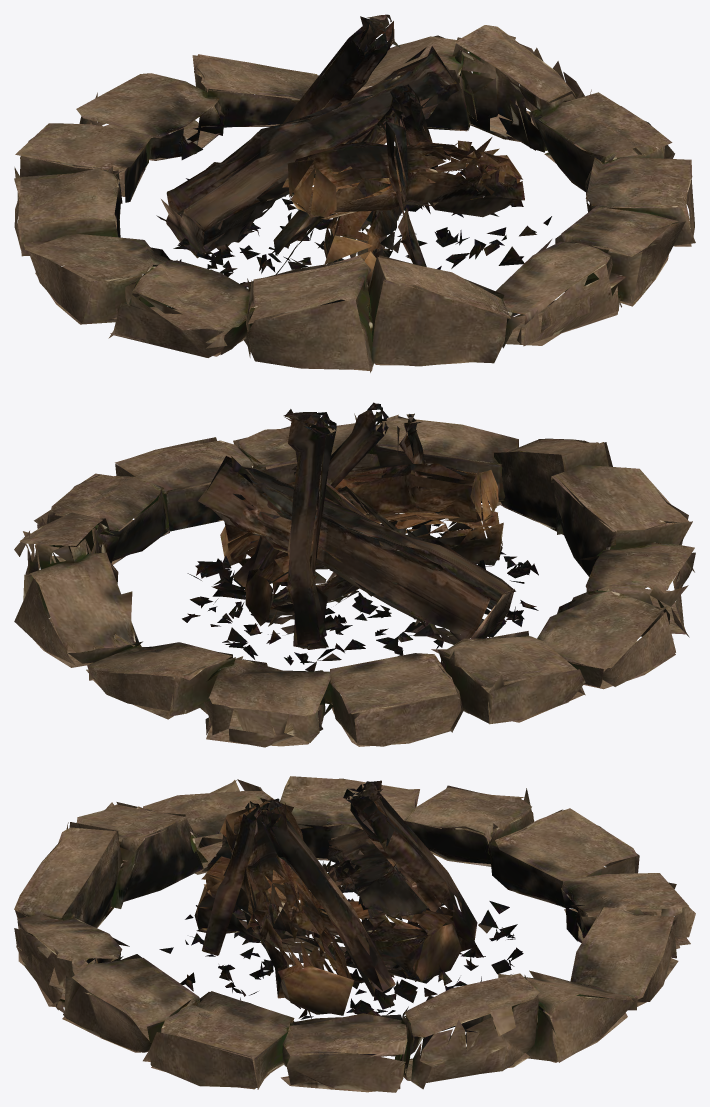
File: firepit.glb
The picture shows the model from 3 angles, top to bottom: view 1: azimuth 30°, elevation 25°; view 2: azimuth 150°, elevation 25°; view 3: azimuth 270°, elevation 25°; orthographic projection. The views are drawn at different scales.
Parts seen in each view (by area): view 1: ch1.firepit.001; view 2: ch1.firepit.001; view 3: ch1.firepit.001.
Boxes of the visible parts, x1=… form: ch1.firepit.001: x1=14, y1=14, x2=695, y2=372; ch1.firepit.001: x1=14, y1=402, x2=695, y2=747; ch1.firepit.001: x1=14, y1=776, x2=695, y2=1092.
Bounding box in the file's own units: 0.9453 × 0.3054 × 0.972.
Materials: 3 (3 with a texture image).
